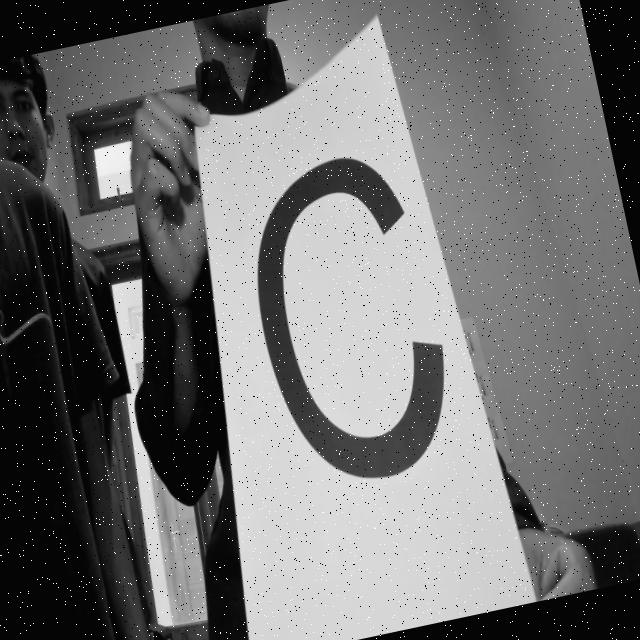c: (230, 136, 479, 534)
